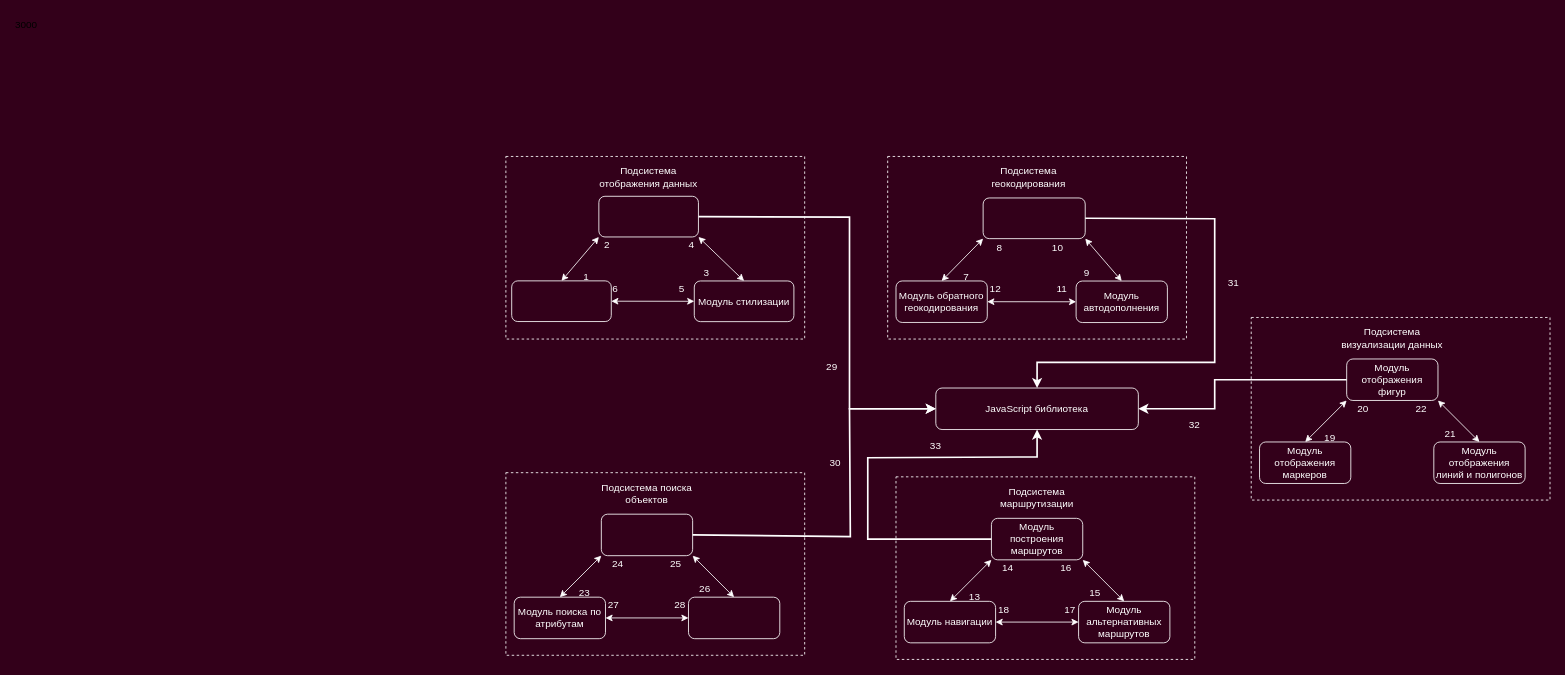
Image size: 1565x675. Some labels were removed from this diagram. Here are the shapes that lost their labels. From the top down, the centre of each, then its label:
(648,216): Модуль отображения данных
(1033,218): Модуль геокодирования
(561,301): Модуль интерактивности
(647,534): Модуль поиска по параметрам
(734,617): Модуль поиска по названию
